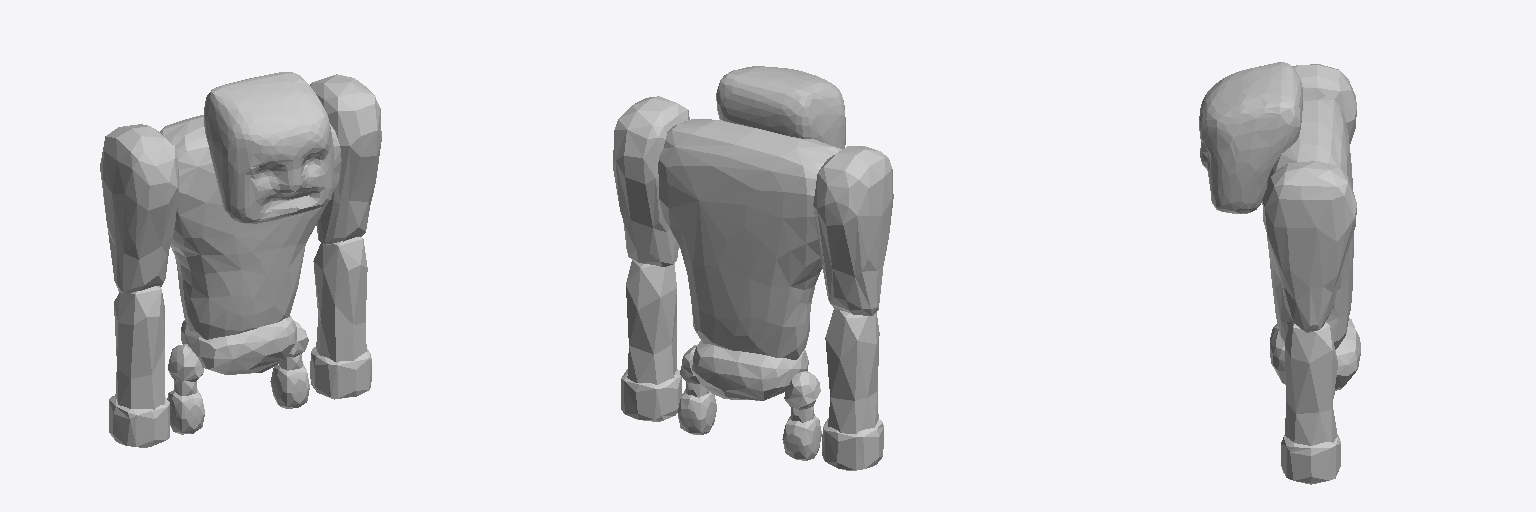
File: golem enemy placeholder model.obj
The picture shows the model from 3 angles: view 1: azimuth 30°, elevation 25°; view 2: azimuth 150°, elevation 25°; view 3: azimuth 270°, elevation 25°; orthographic projection.
Visible parts, largest first — view 1: Cube.081_Cube.100; view 2: Cube.081_Cube.100; view 3: Cube.081_Cube.100.
Boxes of the visible parts, box(x1,y1,x2,y2) form: Cube.081_Cube.100: box(100, 72, 381, 447); Cube.081_Cube.100: box(613, 66, 893, 470); Cube.081_Cube.100: box(1199, 62, 1360, 484).
Size of the model in its own units: 5.51 by 7.17 by 3.